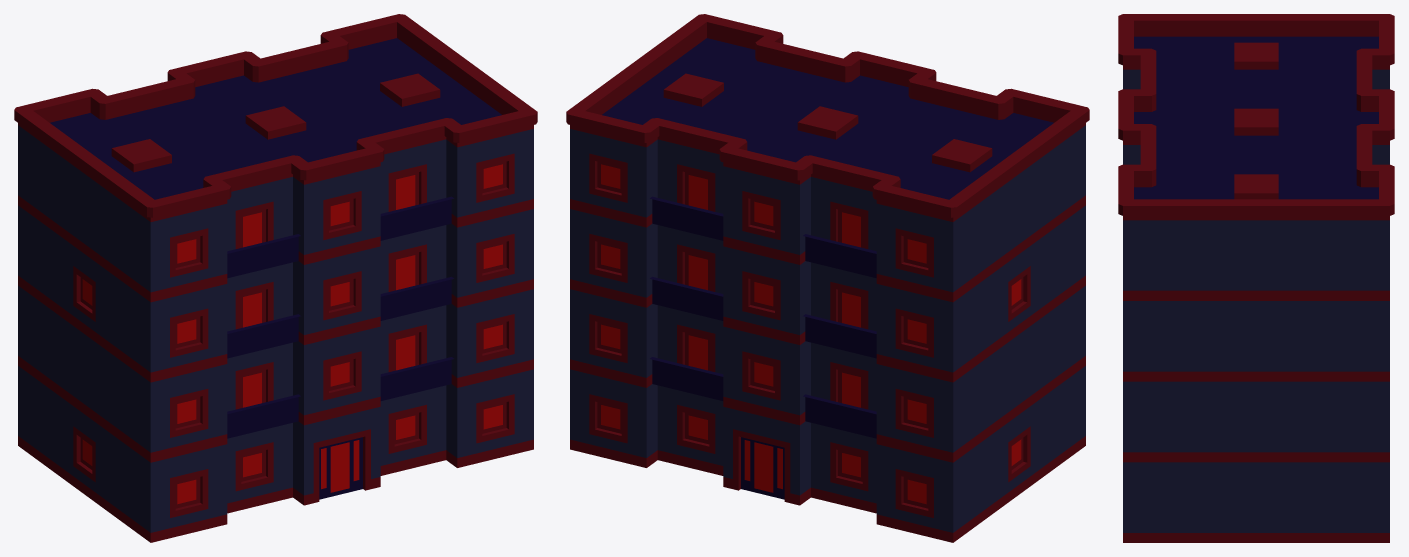
The picture shows the model from 3 angles, left to right: view 1: azimuth 30°, elevation 25°; view 2: azimuth 150°, elevation 25°; view 3: azimuth 270°, elevation 25°; orthographic projection.
Visible parts, largest first — view 1: large_buildingA; view 2: large_buildingA; view 3: large_buildingA.
Part boxes in pixels (bbox=[...]): large_buildingA: bbox=[14, 14, 537, 542]; large_buildingA: bbox=[566, 14, 1089, 542]; large_buildingA: bbox=[1118, 14, 1394, 542].
Size of the model in its own units: 2.04 by 1.68 by 1.24.
